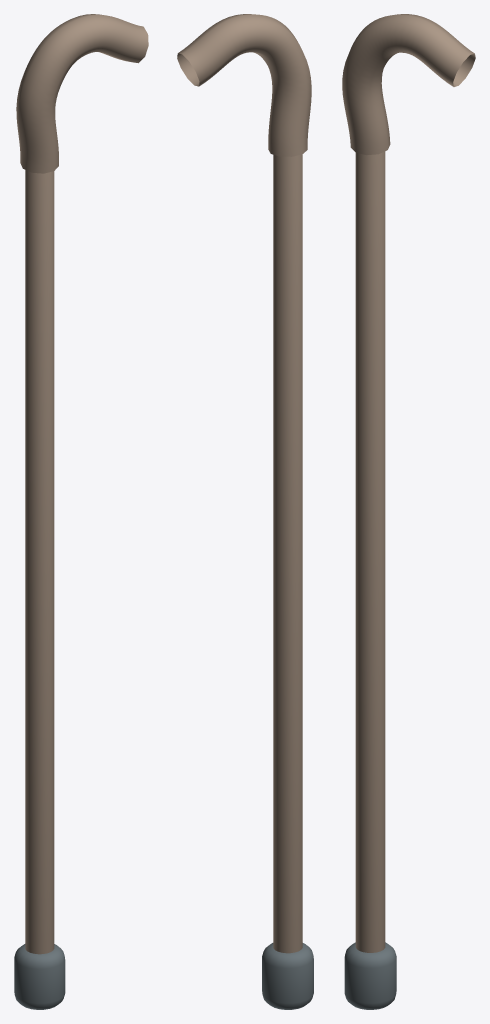
The model's file is WalkingCane.fbx.
3 views of the same model, side by side, from view 1: azimuth 30°, elevation 25°; view 2: azimuth 210°, elevation 25°; view 3: azimuth 330°, elevation 25° (orthographic). The views are drawn at different scales.
Parts seen in each view (by area): view 1: Shaft, Grip, RubberFoot; view 2: Shaft, Grip, RubberFoot; view 3: Shaft, Grip, RubberFoot.
Boxes of the visible parts, x1,y1,x2,y2 form: Shaft: (25,170,54,954); Grip: (16,14,148,173); RubberFoot: (14,944,65,1009); Shaft: (273,154,302,953); Grip: (177,14,311,156); RubberFoot: (262,943,313,1009); Shaft: (355,151,385,952); Grip: (342,14,475,155); RubberFoot: (344,942,396,1009).
Bounding box in the file's own units: 11.73 × 88.66 × 4.2.
